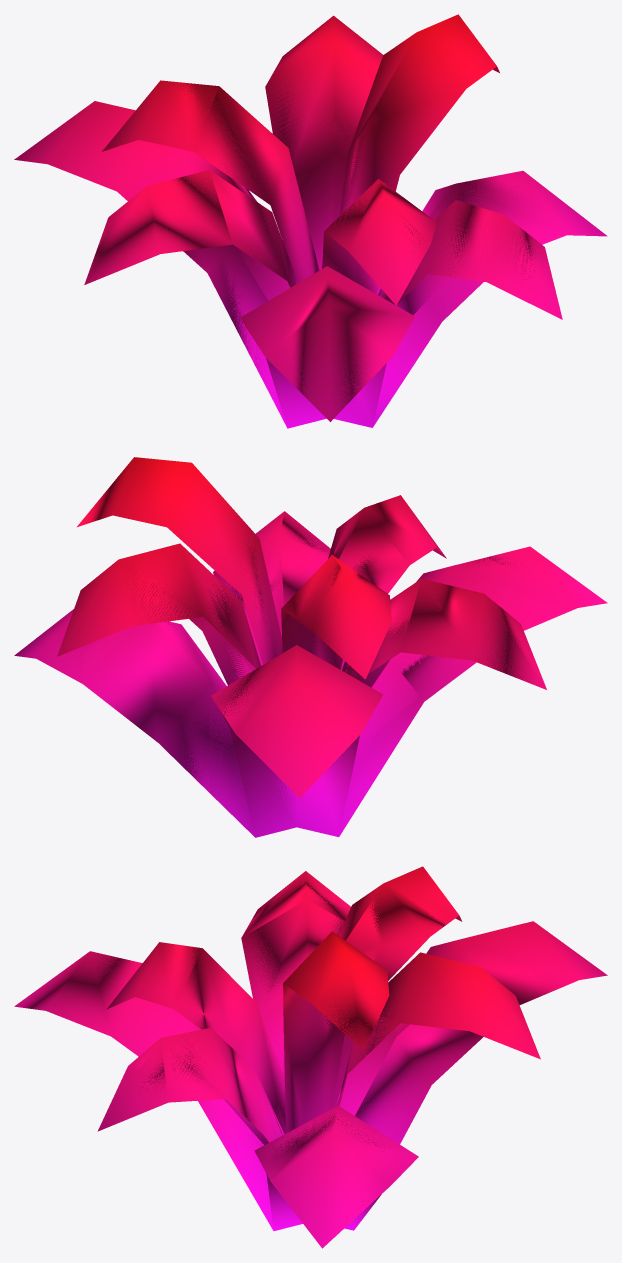
The model's file is SM_Env_Plant_Fern_02.fbx.
3 renders of one model, top to bottom at view 1: azimuth 30°, elevation 25°; view 2: azimuth 150°, elevation 25°; view 3: azimuth 270°, elevation 25°, orthographic. The views are drawn at different scales.
Parts seen in each view (by area): view 1: SM_Env_Plant_Fern_02; view 2: SM_Env_Plant_Fern_02; view 3: SM_Env_Plant_Fern_02.
Part boxes in pixels (x1,y1,x2,y2): SM_Env_Plant_Fern_02: (14, 14, 607, 428); SM_Env_Plant_Fern_02: (14, 457, 607, 837); SM_Env_Plant_Fern_02: (14, 866, 607, 1248).
Size of the model in its own units: 162 by 103 by 166.
